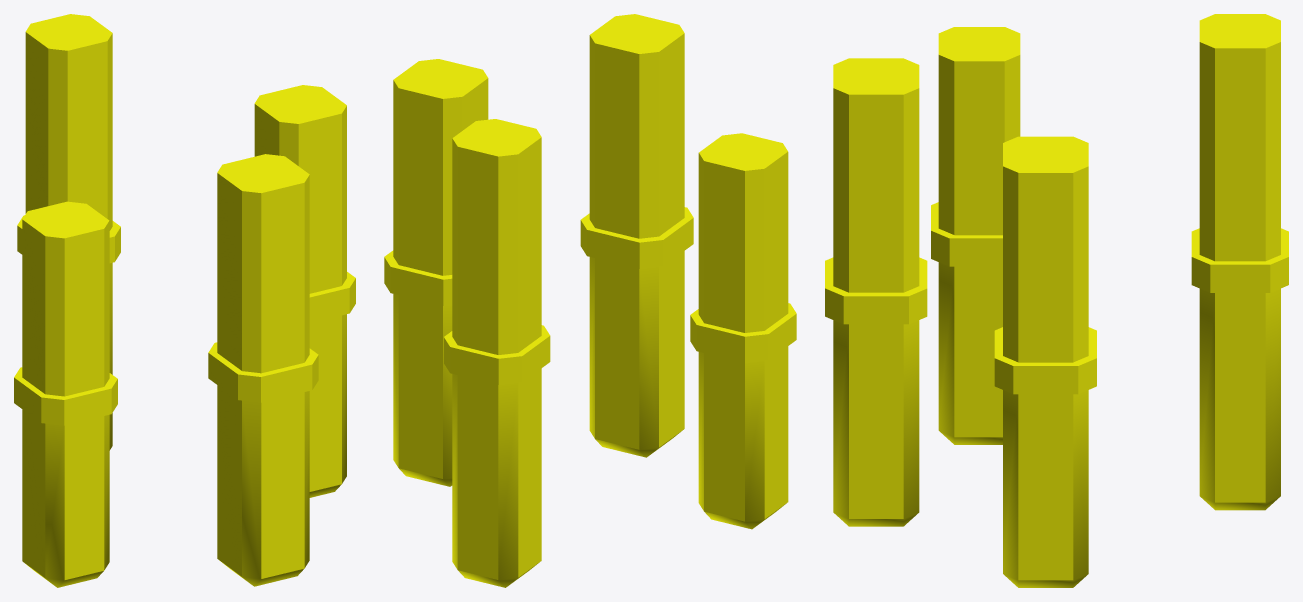
File: Bamboo_Small.glb
3 renders of one model, left to right at view 1: azimuth 30°, elevation 25°; view 2: azimuth 150°, elevation 25°; view 3: azimuth 270°, elevation 25°, orthographic. The views are drawn at different scales.
Visible parts, largest first — view 1: Bamboo_Small; view 2: Bamboo_Small; view 3: Bamboo_Small.
Boxes of the visible parts, x1,y1,x2,y2 form: Bamboo_Small: [14, 14, 355, 587]; Bamboo_Small: [384, 14, 796, 587]; Bamboo_Small: [825, 14, 1288, 587].
Bounding box in the file's own units: 1.46 × 1.72 × 1.55.
Materials: 1 (1 with a texture image).
